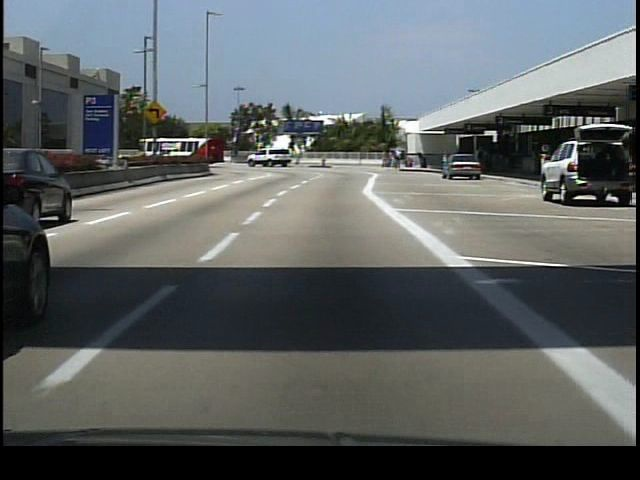person: (474, 149, 490, 179), (393, 147, 403, 174)
